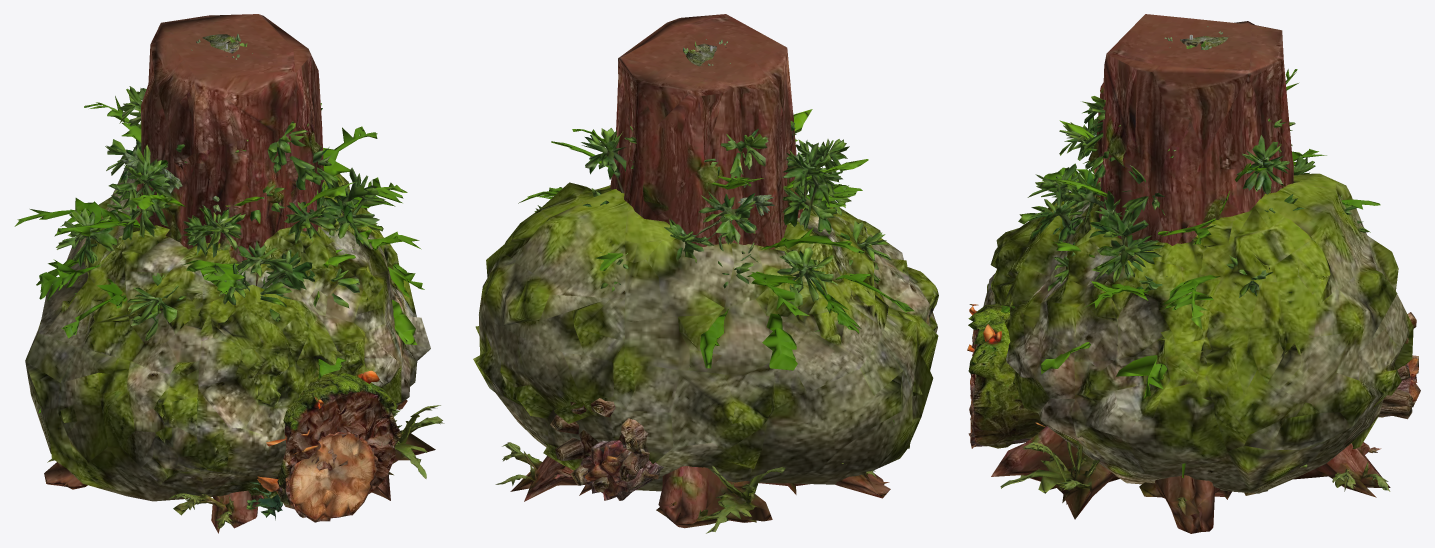
File: forest.glb
3 views of the same model, side by side, from view 1: azimuth 30°, elevation 25°; view 2: azimuth 150°, elevation 25°; view 3: azimuth 270°, elevation 25° (orthographic). The views are drawn at different scales.
Visible parts, largest first — view 1: moss_boulder, giant_cedar, broadleaf_tree, fern, fallen_log, long_log, pine_b; view 2: moss_boulder, giant_cedar, broadleaf_tree, fern, fallen_log, long_log; view 3: moss_boulder, giant_cedar, broadleaf_tree, fallen_log, fern, long_log.
Part boxes in pixels (box(x1,y1,x2,y2)): moss_boulder: box(25, 170, 430, 501); giant_cedar: box(44, 14, 444, 533); broadleaf_tree: box(56, 37, 387, 340); fern: box(14, 96, 424, 413); fallen_log: box(246, 370, 400, 520); long_log: box(257, 429, 378, 522); pine_b: box(120, 34, 252, 212); moss_boulder: box(473, 182, 938, 491); giant_cedar: box(495, 14, 890, 533); broadleaf_tree: box(534, 41, 891, 331); fern: box(518, 109, 914, 422); fallen_log: box(550, 398, 658, 492); long_log: box(580, 440, 663, 500); moss_boulder: box(983, 173, 1413, 493); giant_cedar: box(991, 14, 1390, 533); broadleaf_tree: box(1018, 40, 1368, 297); fallen_log: box(968, 304, 1418, 444); fern: box(1001, 69, 1380, 477); long_log: box(967, 334, 1420, 448).
Bounding box in the file's own units: 0.9662 × 0.9811 × 0.9844.
9 materials, 9 textured.
